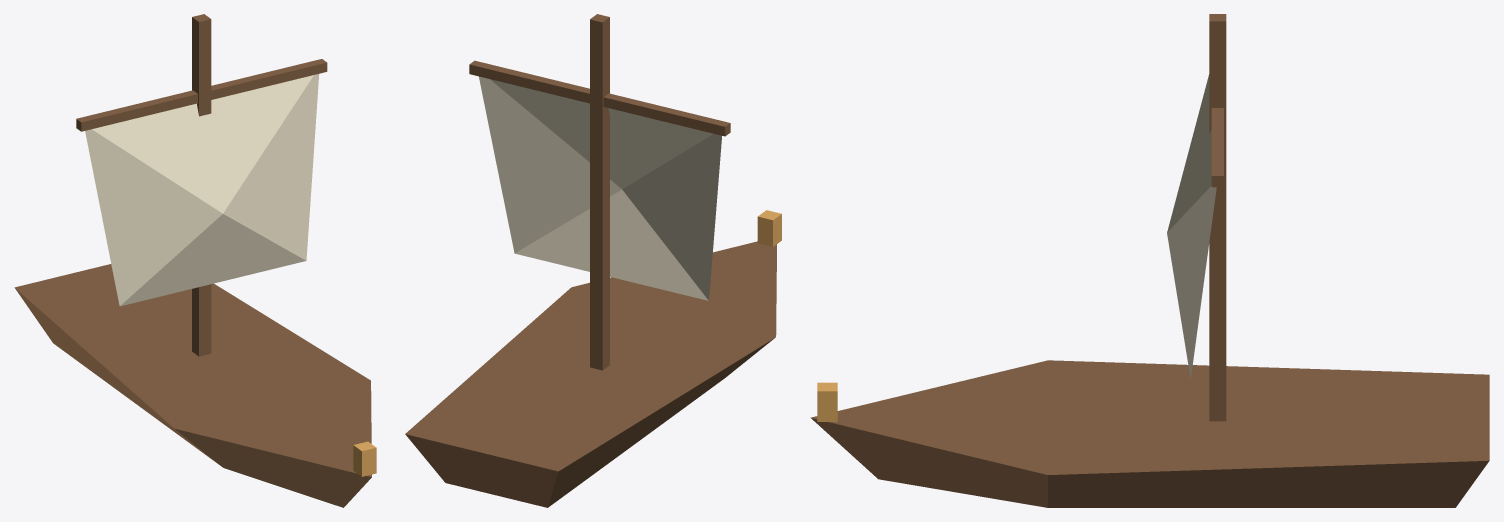
Rendered from ship_test.glb.
3 views of the same model, side by side, from view 1: azimuth 30°, elevation 25°; view 2: azimuth 150°, elevation 25°; view 3: azimuth 270°, elevation 25° (orthographic). The views are drawn at different scales.
Visible parts, largest first — view 1: ship_test_hull, sail, boom, mast, bow_tip; view 2: ship_test_hull, sail, mast, boom, bow_tip; view 3: ship_test_hull, sail, mast, boom, bow_tip.
Part boxes in pixels (x1,y1,x2,y2): ship_test_hull: (14, 264, 371, 507); sail: (85, 74, 319, 306); boom: (76, 59, 327, 131); mast: (192, 14, 211, 356); bow_tip: (353, 441, 376, 476); ship_test_hull: (405, 241, 776, 507); sail: (479, 76, 721, 300); mast: (590, 14, 609, 370); boom: (469, 60, 730, 136); bow_tip: (757, 210, 781, 246); ship_test_hull: (810, 360, 1489, 507); sail: (1167, 74, 1216, 378); mast: (1209, 14, 1226, 421); boom: (1211, 108, 1223, 187); bow_tip: (817, 382, 837, 421).
Bounding box in the file's own units: 10 × 15 × 20.
